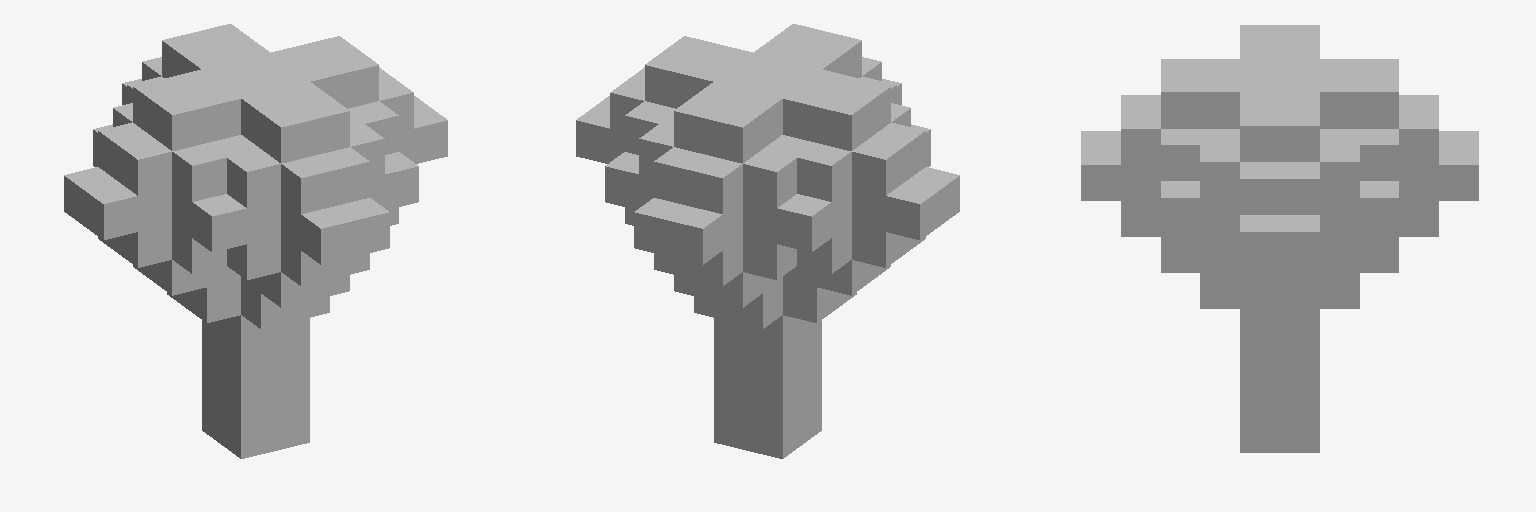
File: Tree_01.obj
3 views of the same model, side by side, from view 1: azimuth 30°, elevation 25°; view 2: azimuth 150°, elevation 25°; view 3: azimuth 270°, elevation 25° (orthographic).
Parts seen in each view (by area): view 1: object 1; view 2: object 1; view 3: object 1.
Boxes of the visible parts, <box> form: object 1: <box>64,24,447,458</box>; object 1: <box>576,24,959,458</box>; object 1: <box>1081,25,1478,452</box>.
Size of the model in its own units: 1 by 1 by 1.